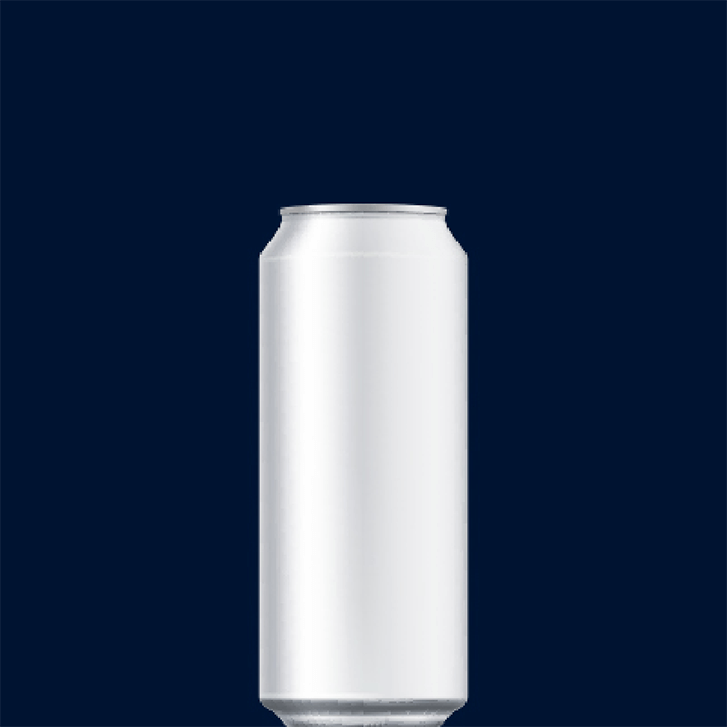can: (246, 197, 480, 727)
